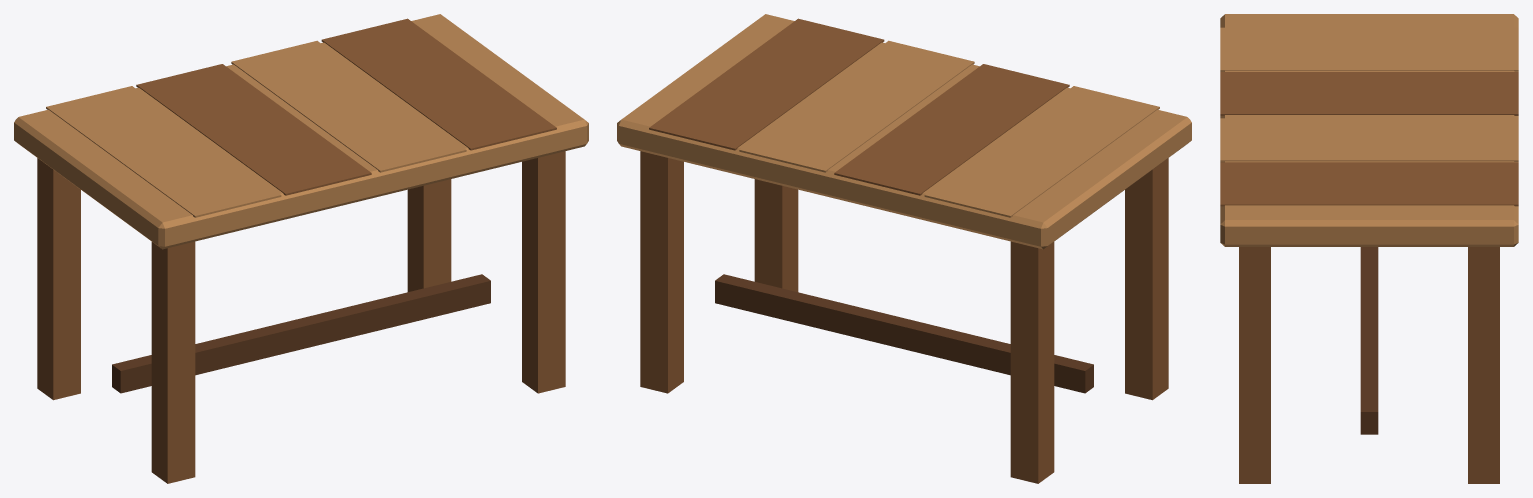
File: Table.fbx
3 views of the same model, side by side, from view 1: azimuth 30°, elevation 25°; view 2: azimuth 150°, elevation 25°; view 3: azimuth 270°, elevation 25° (orthographic).
Parts seen in each view (by area): view 1: Table; view 2: Table; view 3: Table.
Boxes of the visible parts, x1,y1,x2,y2 form: Table: (14, 14, 588, 483); Table: (617, 14, 1191, 483); Table: (1220, 14, 1518, 483).
Size of the model in its own units: 5 by 3 by 3.
